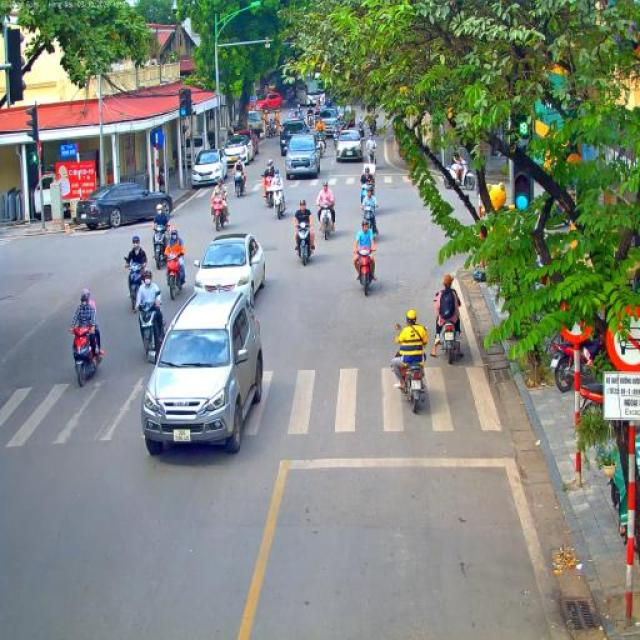car: (140, 290, 266, 456), (193, 233, 266, 308), (76, 181, 174, 229), (285, 132, 321, 179), (190, 148, 229, 191), (280, 118, 310, 156), (220, 134, 250, 171), (333, 128, 363, 162), (232, 130, 258, 160), (255, 91, 284, 114), (317, 106, 338, 130)
motorcycle: (550, 322, 606, 392), (580, 375, 634, 447), (395, 324, 429, 415), (433, 292, 462, 366), (69, 327, 102, 388), (132, 300, 164, 360), (123, 256, 147, 312), (160, 252, 186, 302), (442, 154, 477, 190), (353, 246, 377, 296), (150, 222, 170, 270), (294, 221, 314, 267), (317, 200, 334, 240), (212, 195, 228, 231), (272, 185, 287, 220), (362, 205, 376, 240), (262, 173, 274, 208), (233, 170, 247, 198), (360, 182, 374, 206), (316, 135, 326, 157), (367, 147, 378, 164), (358, 124, 367, 144), (333, 124, 341, 145), (306, 113, 316, 128), (315, 128, 326, 140), (371, 125, 377, 135)
truck: (28, 172, 72, 222), (296, 70, 328, 110), (247, 110, 263, 139)
